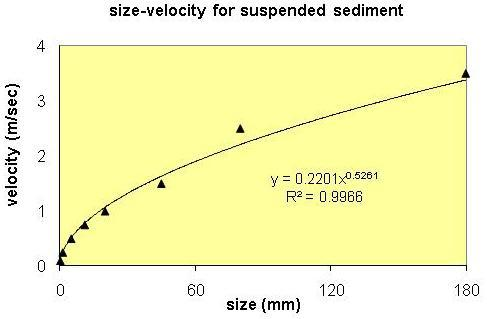axis: (56, 41, 63, 273)
point: (97, 205, 113, 219), (233, 122, 247, 136), (458, 67, 472, 81), (54, 257, 68, 269), (77, 220, 91, 232), (155, 178, 168, 190), (57, 248, 70, 259), (65, 234, 78, 245)
